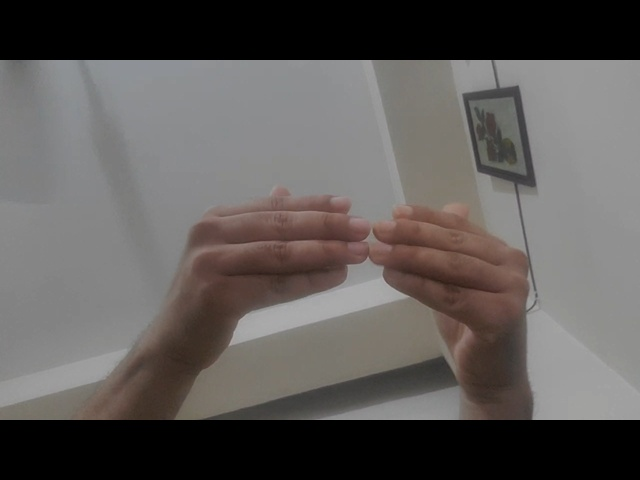Thank you: (128, 184, 548, 422)
